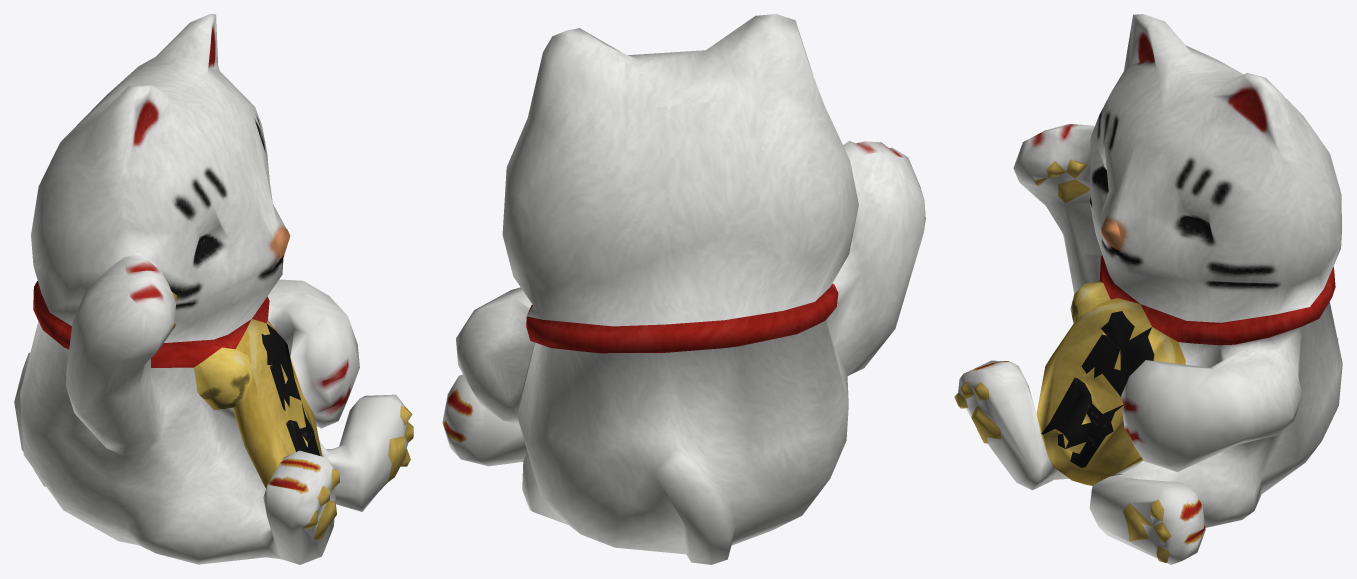
File: plushluckycat.fbx
The picture shows the model from 3 angles, left to right: view 1: azimuth 30°, elevation 25°; view 2: azimuth 150°, elevation 25°; view 3: azimuth 270°, elevation 25°; orthographic projection. The views are drawn at different scales.
Parts seen in each view (by area): view 1: splurge_cat9_L.001; view 2: splurge_cat9_L.001; view 3: splurge_cat9_L.001.
Part boxes in pixels (<box>): splurge_cat9_L.001: <box>14,14,413,564</box>; splurge_cat9_L.001: <box>442,14,925,564</box>; splurge_cat9_L.001: <box>954,14,1342,564</box>.
Size of the model in its own units: 0.3788 by 0.4398 by 0.3611.
